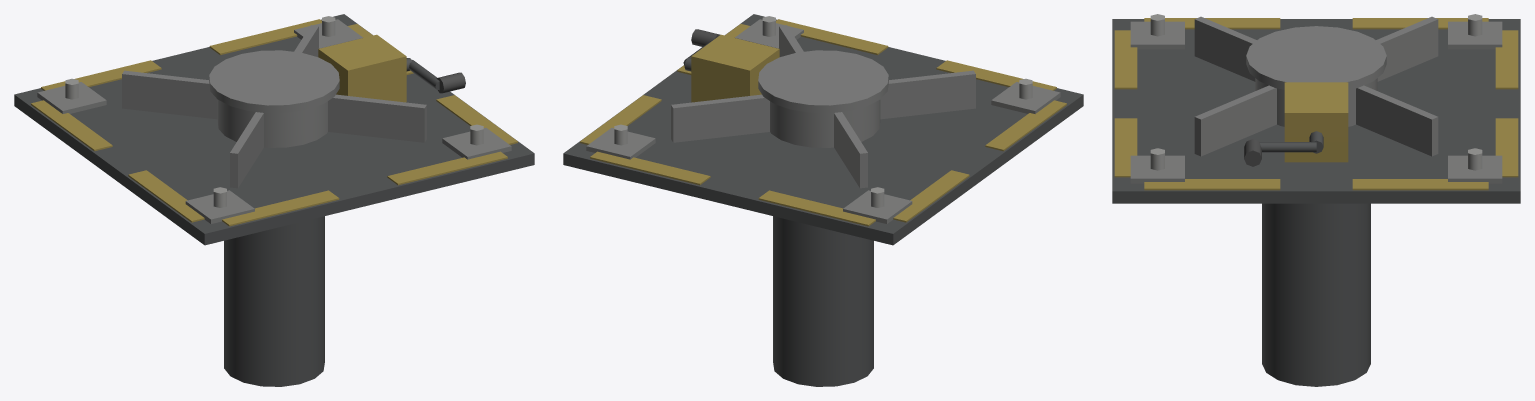
Rendered from stand_base.glb.
3 renders of one model, left to right at view 1: azimuth 30°, elevation 25°; view 2: azimuth 150°, elevation 25°; view 3: azimuth 270°, elevation 25°, orthographic. The views are drawn at different scales.
Parts seen in each view (by area): view 1: stand_base; view 2: stand_base; view 3: stand_base.
Boxes of the visible parts, x1,y1,x2,y2 form: stand_base: (14, 14, 534, 386); stand_base: (563, 14, 1083, 386); stand_base: (1112, 14, 1520, 386).
Size of the model in its own units: 0.9 by 0.76 by 0.9.
